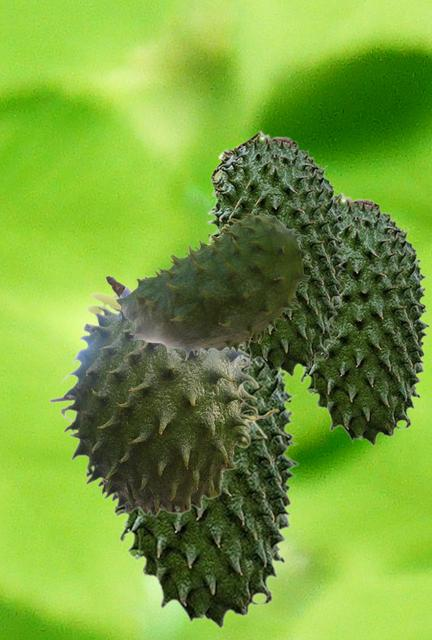guyabano: (48, 285, 279, 517), (111, 343, 299, 628), (206, 129, 347, 376), (298, 191, 430, 445), (105, 213, 310, 360)
